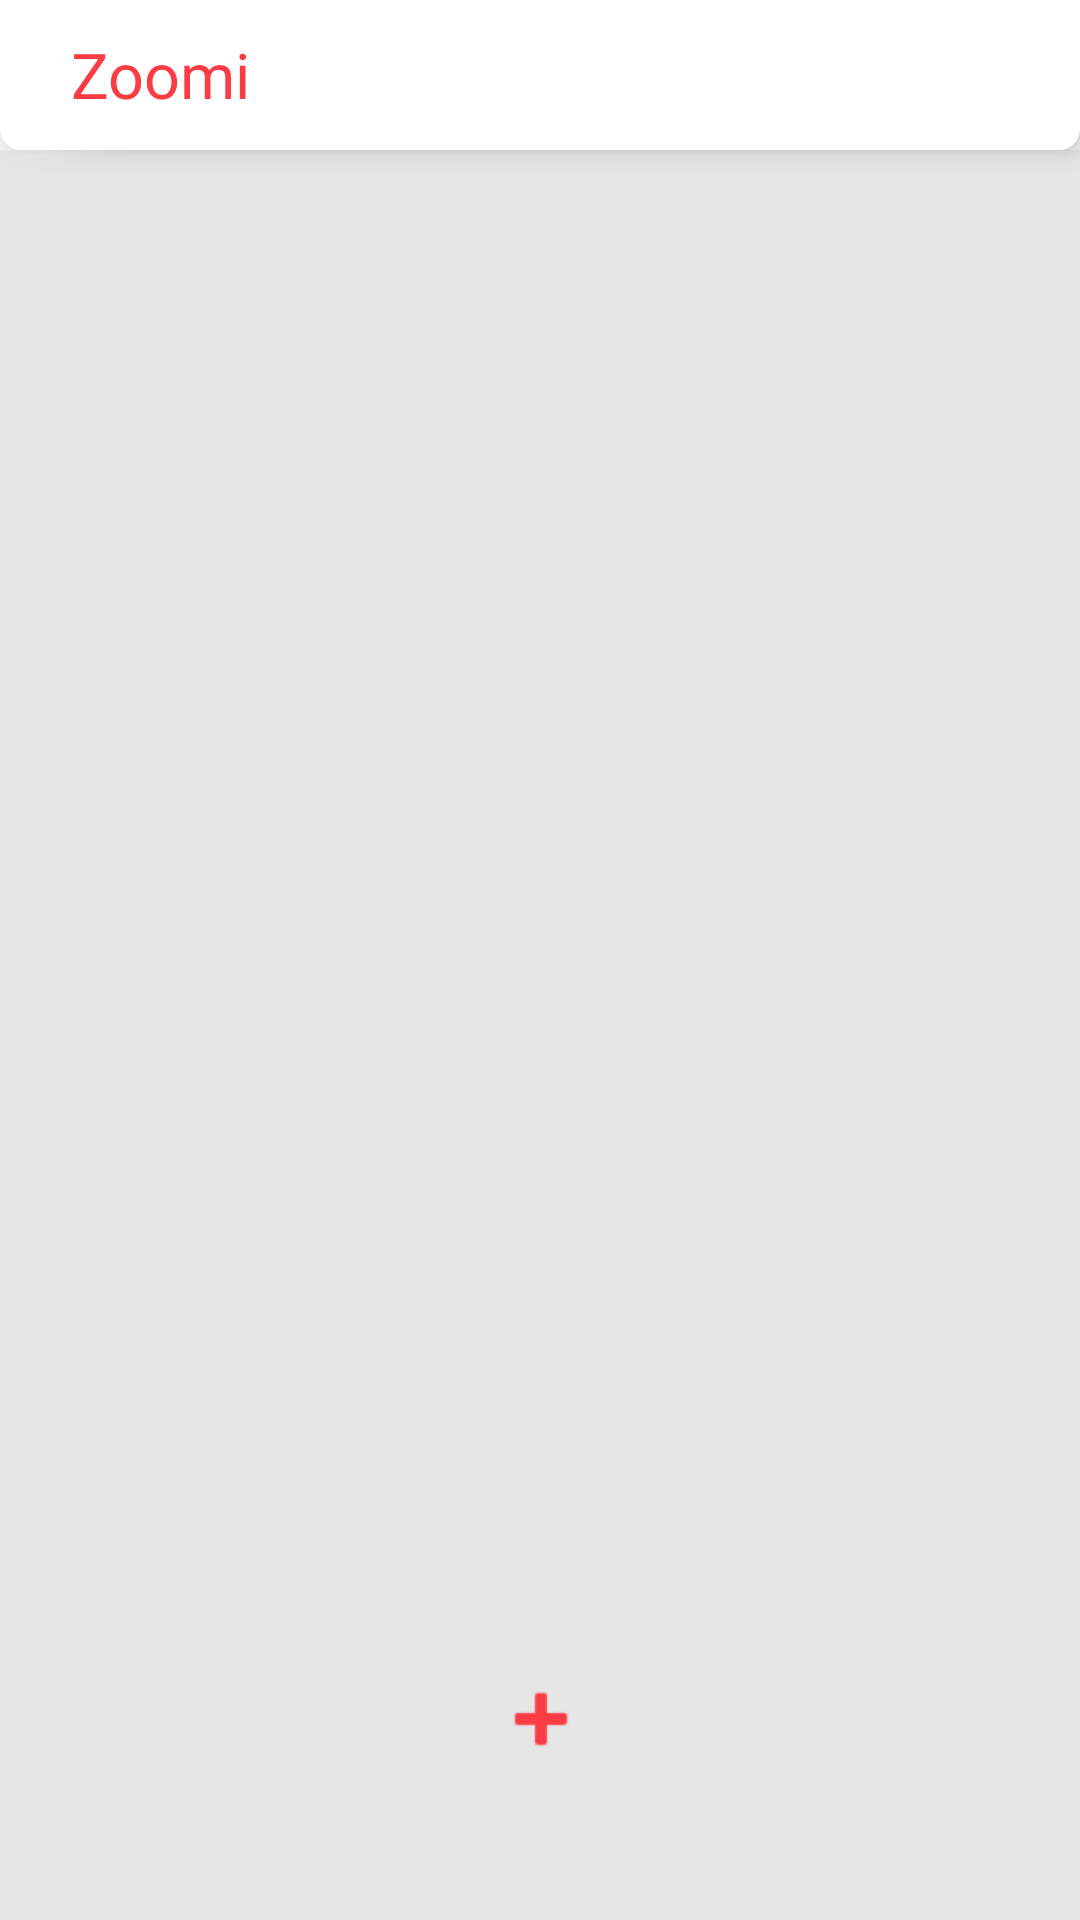

Where to tap for icons on this 1080w x 1920h app screen, as point (x, y):
add: point (541, 1719)
